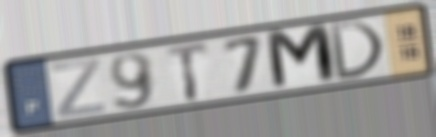7: (221, 33, 267, 95)
9: (109, 50, 159, 111)
D: (326, 18, 387, 83)
M: (262, 21, 342, 93)
T: (164, 40, 212, 104)
Z: (49, 55, 107, 120)
